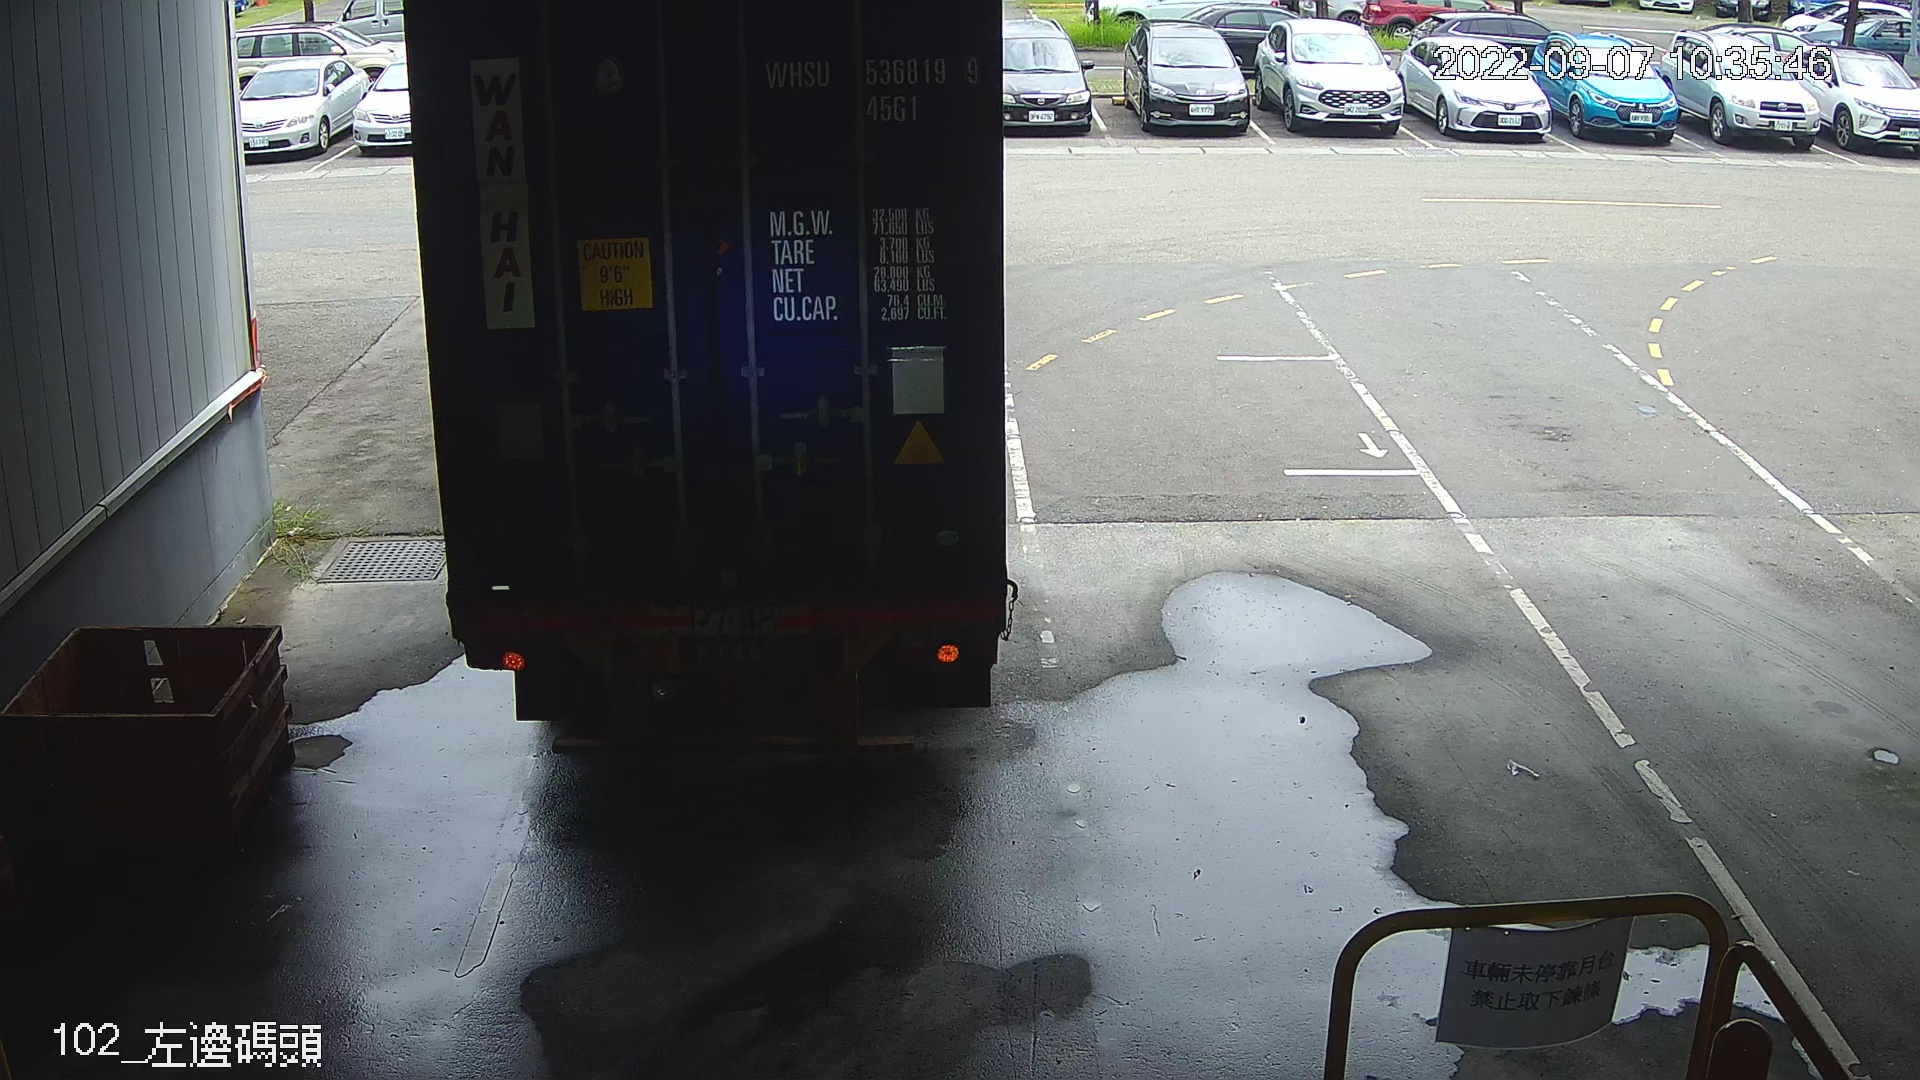container: (753, 47, 992, 131)
